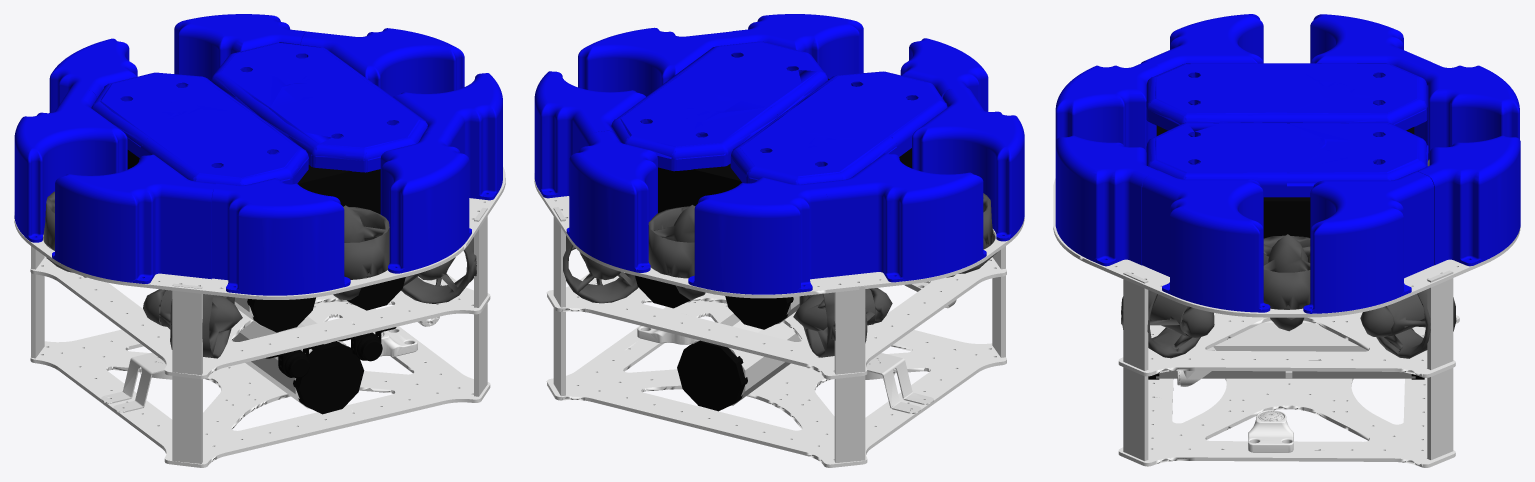
The model's file is cirtesub_v2_alpha.dae.
3 renders of one model, left to right at view 1: azimuth 30°, elevation 25°; view 2: azimuth 150°, elevation 25°; view 3: azimuth 270°, elevation 25°, orthographic.
Visible parts, largest first — view 1: Part 1-Mirrored.007, Part 2-Mirrored.007, Part 1.059, Part 2.005, Part 1-Mirrored-Mirrored.002, Part 1.044, Part 1.005, Part 1.066, Part 1-Mirrored.005, Part_1.020, Part_2.001, Part_2-Mirrored.003 (+39 smaller); view 2: Part 1-Mirrored-Mirrored.002, Part 2-Mirrored-Mirrored.002, Part 1.005, Part 2-Mirrored.005, Part 1-Mirrored.007, Part 1.001, Part 1.059, Part 1-Mirrored.005, Part_2.001, Part 1.066, Part_2-Mirrored.003, Part_1-Mirrored.003 (+38 smaller); view 3: Part 1-Mirrored.005, Part 1.066, Part 2-Mirrored.005, Part 2.005, Part 1.005, Part 1.059, Part 2-Mirrored-Mirrored.002, Part 2-Mirrored.007, Part_2-Mirrored.003, Part_2.001, Part_1.020, Part 1.044 (+35 smaller).
Boxes of the visible parts, <box> form: Part 1-Mirrored.007: <box>52,155,215,283</box>; Part 2-Mirrored.007: <box>212,178,350,295</box>; Part 1.059: <box>30,303,490,467</box>; Part 2.005: <box>380,131,471,273</box>; Part 1-Mirrored-Mirrored.002: <box>14,88,127,242</box>; Part 1.044: <box>30,270,490,378</box>; Part 1.005: <box>30,301,489,467</box>; Part 1.066: <box>393,73,502,200</box>; Part 1-Mirrored.005: <box>301,28,464,96</box>; Part_1.020: <box>261,83,426,172</box>; Part_2.001: <box>211,42,369,118</box>; Part_2-Mirrored.003: <box>91,74,249,157</box>; Part 1-Mirrored-Mirrored.002: <box>822,153,986,282</box>; Part 2-Mirrored-Mirrored.002: <box>688,177,827,294</box>; Part 1.005: <box>546,306,1006,467</box>; Part 2-Mirrored.005: <box>566,131,657,272</box>; Part 1-Mirrored.007: <box>912,87,1024,241</box>; Part 1.001: <box>547,272,1006,378</box>; Part 1.059: <box>547,300,1006,467</box>; Part 1-Mirrored.005: <box>534,71,645,198</box>; Part_2.001: <box>611,82,777,170</box>; Part 1.066: <box>578,27,741,96</box>; Part_2-Mirrored.003: <box>731,112,897,184</box>; Part_1-Mirrored.003: <box>790,72,946,156</box>; Part 1-Mirrored.005: <box>1303,171,1433,313</box>; Part 1.066: <box>1142,170,1270,312</box>; Part 2-Mirrored.005: <box>1416,136,1520,266</box>; Part 2.005: <box>1055,135,1156,266</box>; Part 1.005: <box>1118,315,1459,467</box>; Part 1.059: <box>1118,318,1459,467</box>; Part 2-Mirrored-Mirrored.002: <box>1412,61,1519,159</box>; Part 2-Mirrored.007: <box>1055,61,1163,150</box>; Part_2-Mirrored.003: <box>1287,63,1427,130</box>; Part_2.001: <box>1287,122,1428,186</box>; Part_1.020: <box>1146,122,1286,185</box>; Part 1.044: <box>1118,313,1455,377</box>.
Bounding box in the file's own units: 0.79 × 0.7202 × 0.4588.
